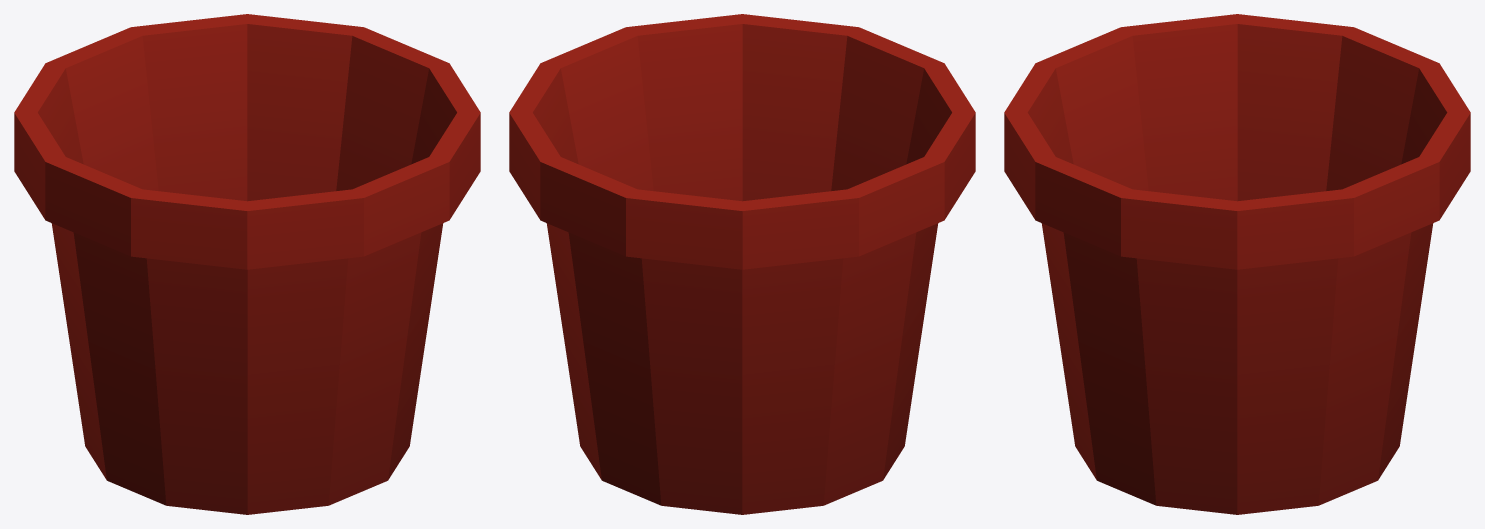
Rendered from Prop_Flowerpot_01.obj.
3 views of the same model, side by side, from view 1: azimuth 30°, elevation 25°; view 2: azimuth 150°, elevation 25°; view 3: azimuth 270°, elevation 25° (orthographic).
Parts seen in each view (by area): view 1: Prop_Flowerpot_01; view 2: Prop_Flowerpot_01; view 3: Prop_Flowerpot_01.
Boxes of the visible parts, box(x1,y1,x2,y2) form: Prop_Flowerpot_01: box(14, 14, 480, 514); Prop_Flowerpot_01: box(509, 14, 975, 514); Prop_Flowerpot_01: box(1004, 14, 1470, 514).
Size of the model in its own units: 0.19 by 0.15 by 0.19.
1 material, 1 textured.
